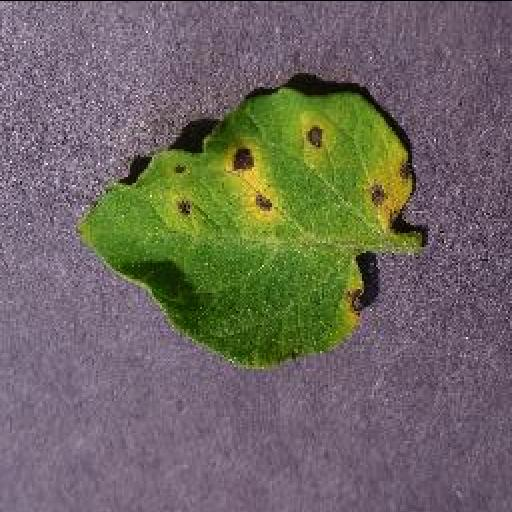disease_tomato: (82, 81, 416, 361)
